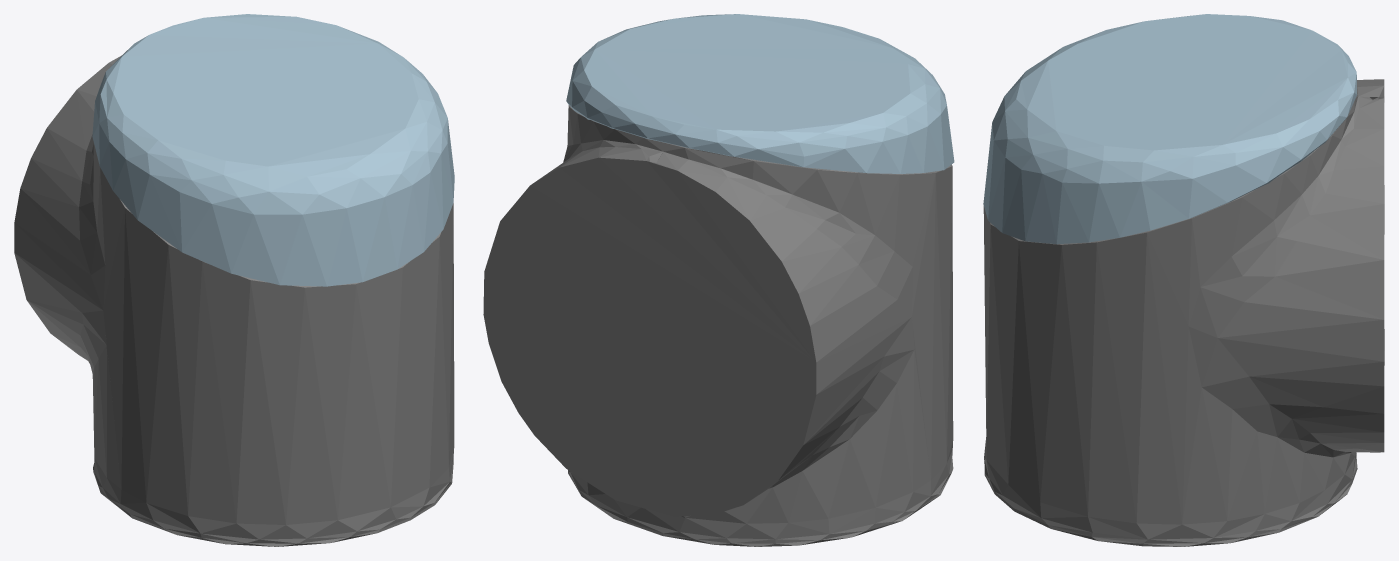
The model's file is shoulder.dae.
3 renders of one model, left to right at view 1: azimuth 30°, elevation 25°; view 2: azimuth 150°, elevation 25°; view 3: azimuth 270°, elevation 25°, orthographic. The views are drawn at different scales.
Parts seen in each view (by area): view 1: node-shape0-name, node-shape1-name; view 2: node-shape0-name, node-shape1-name; view 3: node-shape0-name, node-shape1-name.
Part boxes in pixels (x1,y1,x2,y2): node-shape0-name: [14, 55, 454, 546]; node-shape1-name: [92, 14, 454, 286]; node-shape0-name: [483, 105, 953, 546]; node-shape1-name: [566, 14, 954, 173]; node-shape0-name: [983, 79, 1384, 546]; node-shape1-name: [983, 14, 1357, 244].
Bounding box in the file's own units: 0.1504 × 0.1615 × 0.1771.
